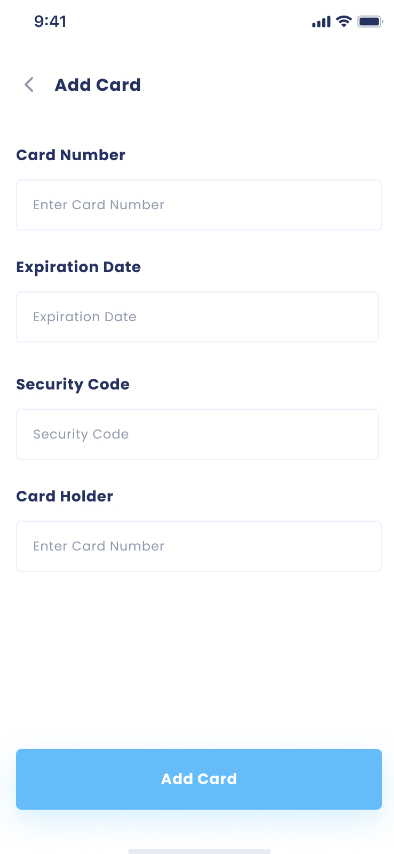Button: (13, 747, 384, 812)
